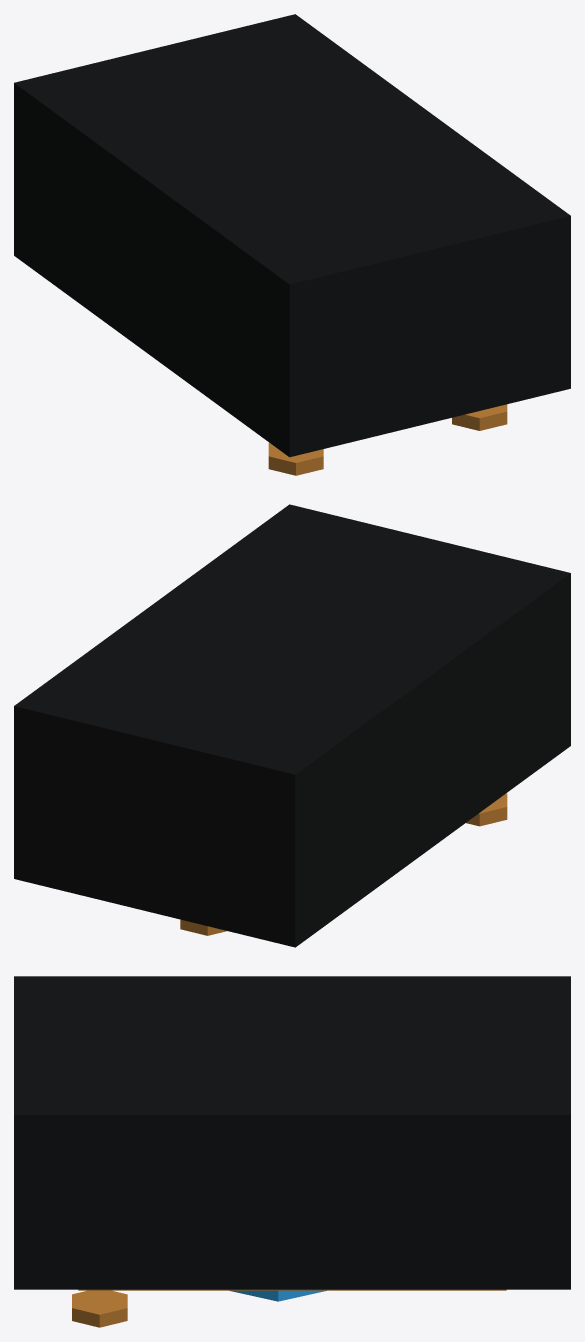
File: SM_Gnome_AetherTek_PowerNexus_FuelCell_01_LOD3.obj
3 renders of one model, top to bottom at view 1: azimuth 30°, elevation 25°; view 2: azimuth 150°, elevation 25°; view 3: azimuth 270°, elevation 25°, orthographic.
Parts seen in each view (by area): view 1: Silhouette_DarkIron_Block, Silhouette_Socket_-15_65, Silhouette_Socket_15_65; view 2: Silhouette_DarkIron_Block, Silhouette_Socket_-15_65; view 3: Silhouette_DarkIron_Block, Silhouette_Socket_15_65, Silhouette_Brass_FrontPlate, Silhouette_Refractor_LowLens.
Part boxes in pixels (bbox=[...]): Silhouette_DarkIron_Block: bbox=[14, 14, 570, 457]; Silhouette_Socket_-15_65: bbox=[268, 442, 323, 475]; Silhouette_Socket_15_65: bbox=[452, 404, 507, 430]; Silhouette_DarkIron_Block: bbox=[14, 504, 570, 947]; Silhouette_Socket_-15_65: bbox=[466, 793, 507, 826]; Silhouette_DarkIron_Block: bbox=[14, 976, 570, 1289]; Silhouette_Socket_15_65: bbox=[72, 1290, 127, 1327]; Silhouette_Brass_FrontPlate: bbox=[78, 1289, 506, 1290]; Silhouette_Refractor_LowLens: bbox=[229, 1290, 326, 1301].
Size of the model in its own units: 46 by 34.5 by 78.
